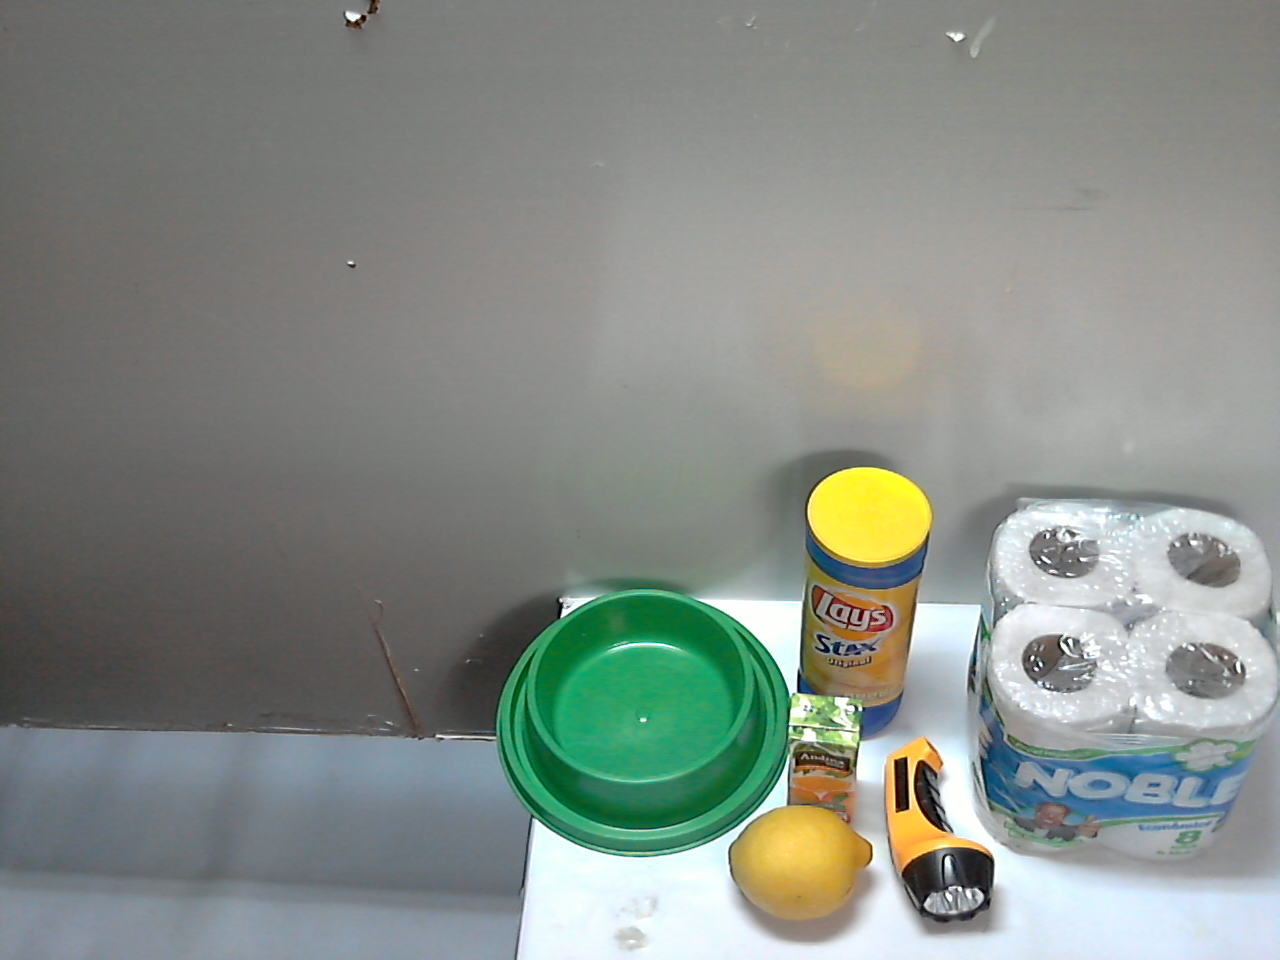colador: (798, 586, 1232, 950)
crema: (574, 694, 677, 836)
esponja: (689, 789, 813, 945)
estuche: (441, 741, 654, 959)
harina: (642, 560, 816, 775)
ketchup: (511, 575, 621, 734)
